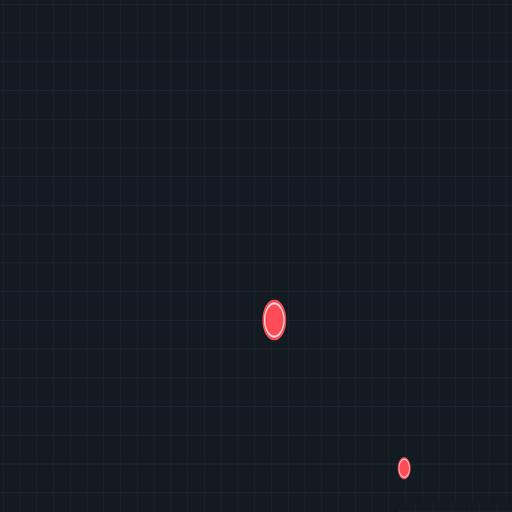Target-Detection: (264, 304, 285, 338), (398, 457, 410, 479)
